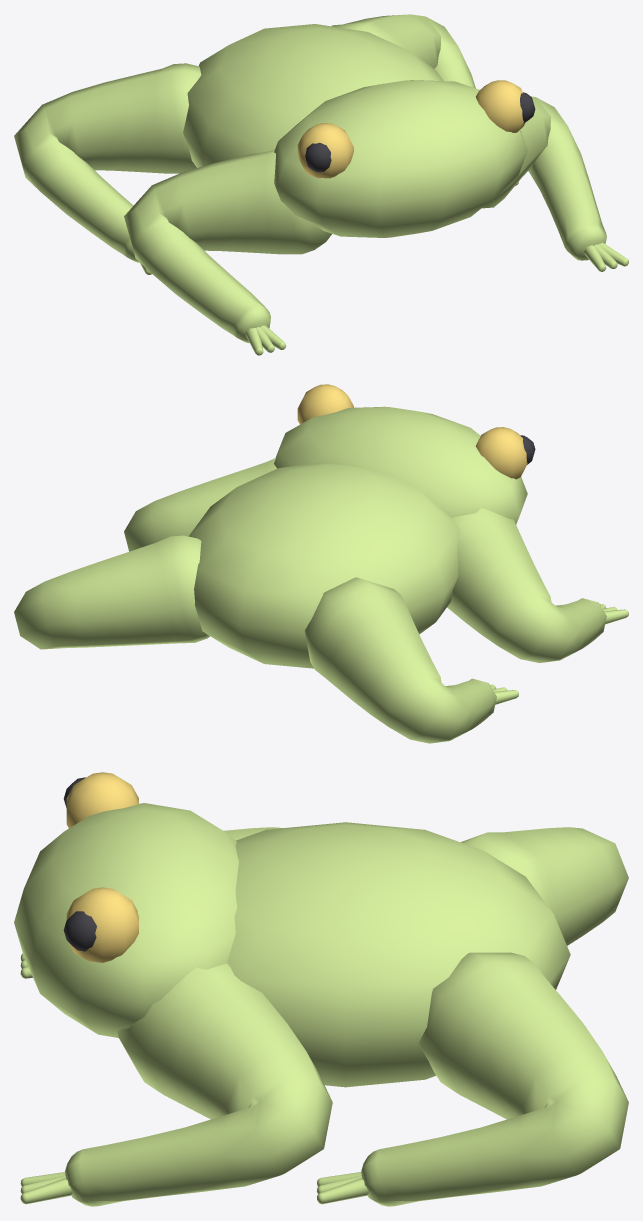
File: reptiles-amphibians-and-minibeasts-glass-frog-91a192f7__22452.glb
The picture shows the model from 3 angles, top to bottom: view 1: azimuth 30°, elevation 25°; view 2: azimuth 150°, elevation 25°; view 3: azimuth 270°, elevation 25°; orthographic projection. The views are drawn at different scales.
Parts seen in each view (by area): view 1: glass-frog; view 2: glass-frog; view 3: glass-frog.
Part boxes in pixels (x1,y1,x2,y2): glass-frog: [14, 14, 628, 355]; glass-frog: [14, 384, 628, 743]; glass-frog: [14, 772, 628, 1206].
Size of the model in its own units: 0.0389 by 0.0163 by 0.035.
